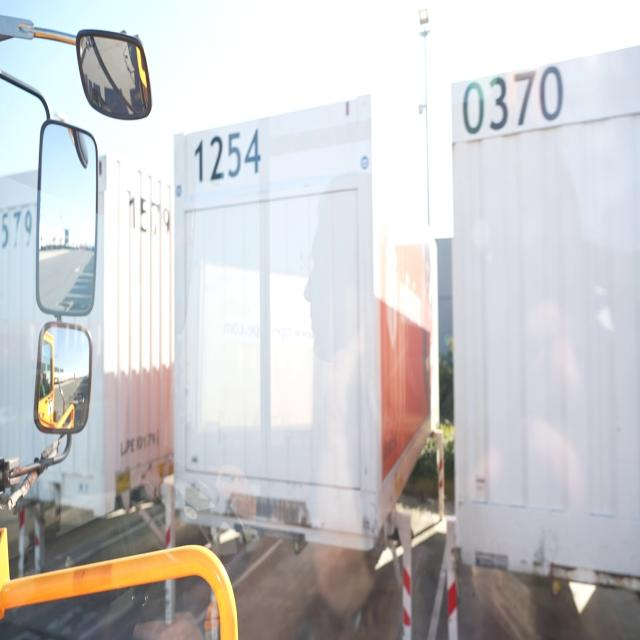Code: (457, 66, 567, 142), (188, 125, 267, 187)
